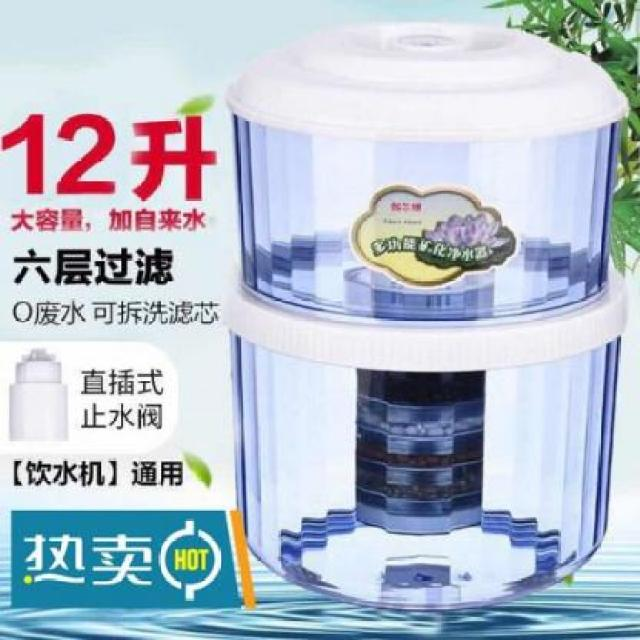coolerbottle: (215, 17, 632, 615)
